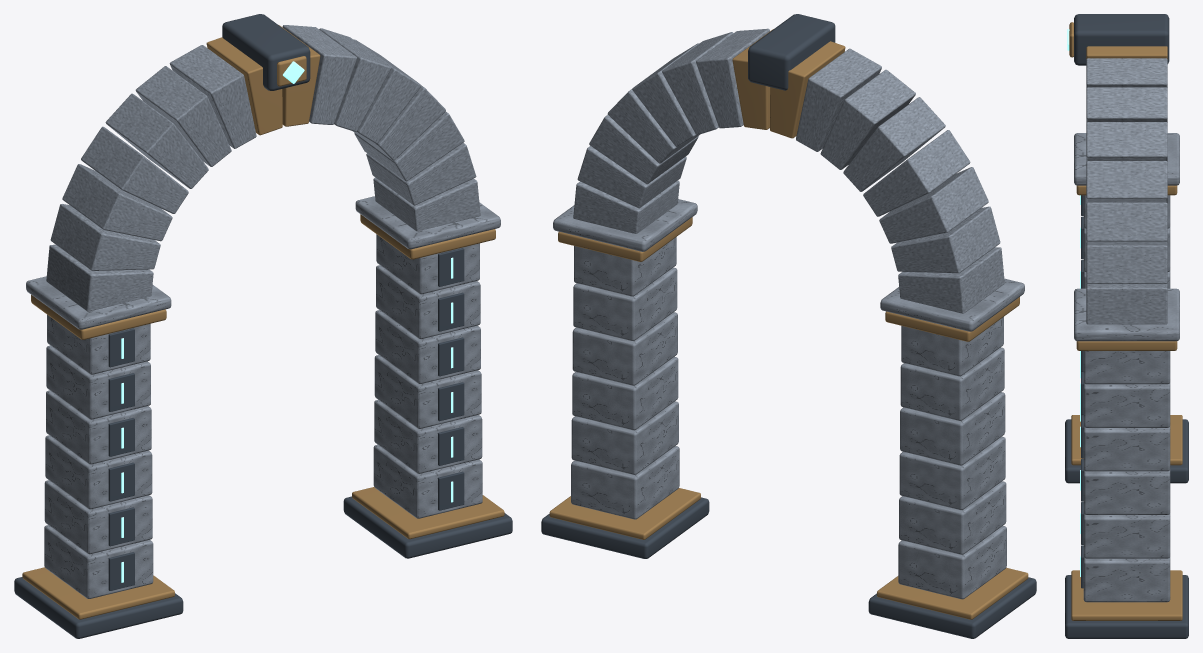
The model's file is arena-gateway.glb.
3 renders of one model, left to right at view 1: azimuth 30°, elevation 25°; view 2: azimuth 150°, elevation 25°; view 3: azimuth 270°, elevation 25°, orthographic. The views are drawn at different scales.
Visible parts, largest first — view 1: Radial stone arch.013, Radial stone arch.010, Radial stone arch.011, Radial stone arch.014, Radial stone arch.009, Ashlar column.006, Ashlar column, Radial stone arch.012, Ashlar column.001, Ashlar column.007, Ashlar column.002, Ashlar column.008 (+37 smaller); view 2: Ashlar column, Ashlar column.006, Ashlar column.001, Ashlar column.007, Ashlar column.008, Ashlar column.002, Ashlar column.009, Ashlar column.003, Ashlar column.004, Ashlar column.010, Radial stone arch.013, Radial stone arch.010 (+25 smaller); view 3: Ashlar column.006, Ashlar column.007, Ashlar column.008, Ashlar column.010, Ashlar column.009, Radial stone arch.001, Crest stone, Radial stone arch.003, Radial stone arch, Radial stone arch.002, Radial stone arch.004, Ashlar column.011 (+13 smaller).
Boxes of the visible parts, <box> form: Radial stone arch.013: <box>62,164,172,241</box>; Radial stone arch.010: <box>135,66,231,166</box>; Radial stone arch.011: <box>105,93,208,188</box>; Radial stone arch.014: <box>50,204,160,270</box>; Radial stone arch.009: <box>169,45,256,148</box>; Ashlar column.006: <box>373,444,482,518</box>; Ashlar column: <box>44,525,153,598</box>; Radial stone arch.012: <box>81,126,188,213</box>; Ashlar column.001: <box>44,480,152,554</box>; Ashlar column.007: <box>374,400,482,473</box>; Ashlar column.002: <box>45,435,152,509</box>; Ashlar column.008: <box>374,355,481,428</box>; Ashlar column: <box>898,526,1006,599</box>; Ashlar column.006: <box>571,446,679,519</box>; Ashlar column.001: <box>899,481,1006,554</box>; Ashlar column.007: <box>571,401,678,474</box>; Ashlar column.008: <box>572,356,678,430</box>; Ashlar column.002: <box>899,436,1005,510</box>; Ashlar column.009: <box>572,312,677,385</box>; Ashlar column.003: <box>900,392,1005,465</box>; Ashlar column.004: <box>900,347,1004,420</box>; Ashlar column.010: <box>573,267,677,340</box>; Radial stone arch.013: <box>879,167,988,243</box>; Radial stone arch.010: <box>820,69,915,169</box>; Ashlar column.006: <box>1083,557,1170,602</box>; Ashlar column.007: <box>1083,513,1170,558</box>; Ashlar column.008: <box>1083,469,1170,514</box>; Ashlar column.010: <box>1083,382,1170,427</box>; Ashlar column.009: <box>1083,426,1170,471</box>; Radial stone arch.001: <box>1086,241,1167,284</box>; Crest stone: <box>1074,14,1169,65</box>; Radial stone arch.003: <box>1086,161,1167,203</box>; Radial stone arch: <box>1086,283,1167,324</box>; Radial stone arch.002: <box>1086,202,1167,241</box>; Radial stone arch.004: <box>1086,122,1167,161</box>; Ashlar column.011: <box>1083,351,1170,384</box>.
Bounding box in the file's own units: 13.8 × 16.05 × 3.5.
4 materials, 1 textured.
